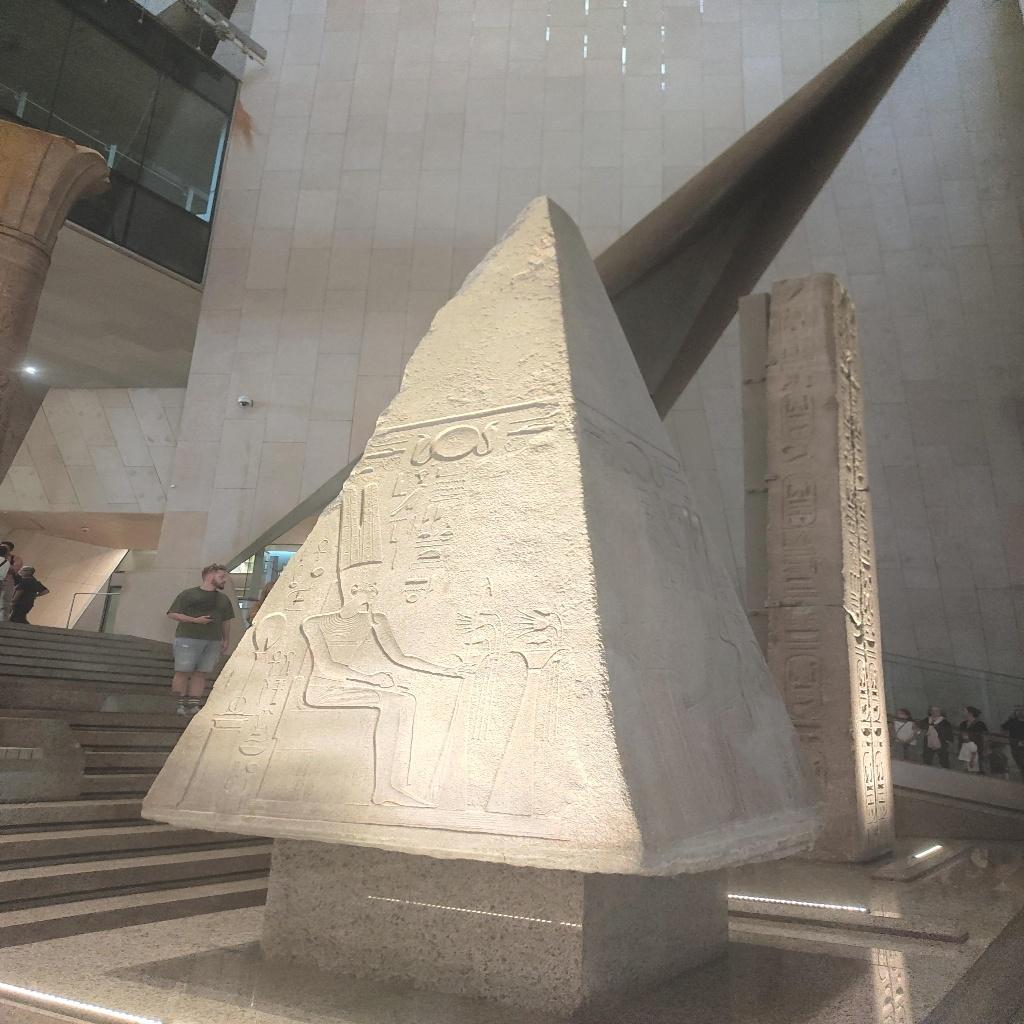Obelsik Tip of Hatshepsut: (138, 192, 830, 879)
